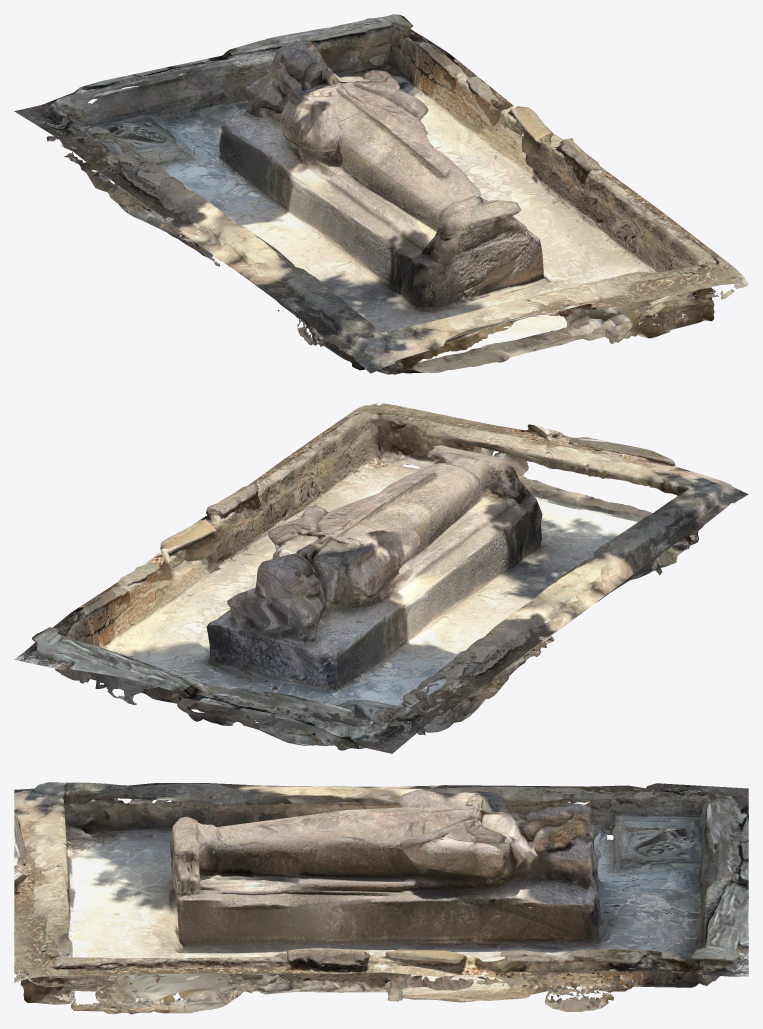
The model's file is reclining-figure.glb.
The picture shows the model from 3 angles, top to bottom: view 1: azimuth 30°, elevation 25°; view 2: azimuth 150°, elevation 25°; view 3: azimuth 270°, elevation 25°; orthographic projection. The views are drawn at different scales.
Visible parts, largest first — view 1: Object_3; view 2: Object_3; view 3: Object_3.
Part boxes in pixels (<box>): Object_3: <box>14,14,748,374</box>; Object_3: <box>14,403,748,753</box>; Object_3: <box>14,782,748,1014</box>.
Size of the model in its own units: 3.38 by 1.06 by 5.51.
1 material, 1 textured.
